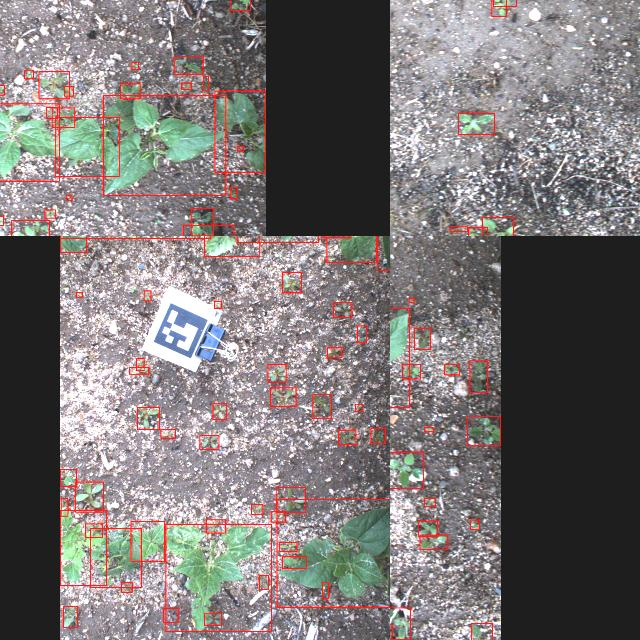crop: (276, 499, 390, 607), (102, 95, 225, 195), (165, 524, 271, 630), (0, 103, 58, 180), (214, 90, 266, 172), (55, 116, 119, 176), (59, 509, 105, 585), (90, 528, 140, 586), (390, 307, 409, 407), (130, 520, 164, 560), (326, 236, 376, 261), (203, 236, 259, 255), (377, 236, 390, 269), (60, 236, 86, 251)
weed: (390, 452, 423, 488), (468, 416, 500, 444), (38, 70, 68, 98), (74, 481, 102, 511), (458, 112, 494, 134), (275, 486, 305, 512), (11, 219, 49, 236), (481, 216, 513, 236), (191, 207, 213, 235), (182, 224, 233, 236), (390, 607, 409, 639), (469, 360, 487, 392), (270, 386, 296, 406), (174, 55, 202, 73), (137, 407, 159, 429), (313, 394, 332, 418), (52, 107, 74, 127), (419, 534, 447, 548), (471, 622, 492, 640), (282, 272, 300, 292), (267, 364, 285, 382), (418, 520, 438, 536), (414, 328, 430, 348), (59, 468, 75, 486), (282, 556, 306, 568), (120, 84, 140, 98), (62, 606, 76, 626), (333, 302, 351, 316), (338, 430, 356, 444), (200, 434, 218, 448), (402, 364, 420, 378), (490, 0, 505, 16), (205, 520, 225, 532), (85, 523, 102, 537), (370, 428, 386, 442), (212, 403, 226, 419), (162, 608, 178, 622), (203, 612, 220, 624), (230, 0, 250, 9), (467, 227, 486, 236), (326, 347, 342, 357), (128, 366, 148, 374), (280, 541, 296, 551), (270, 511, 286, 521), (356, 326, 366, 342), (45, 106, 57, 118), (258, 575, 268, 589), (160, 428, 174, 438), (444, 364, 458, 374), (120, 582, 132, 592), (251, 504, 263, 514), (60, 498, 66, 516), (44, 209, 56, 217), (322, 582, 328, 598), (135, 358, 143, 370), (424, 497, 436, 505), (230, 188, 238, 198), (64, 86, 72, 96), (23, 70, 32, 78), (449, 226, 467, 230), (469, 520, 478, 528), (181, 82, 191, 88), (144, 290, 150, 300), (424, 426, 434, 432), (204, 76, 208, 90), (213, 300, 220, 308), (356, 404, 362, 411), (132, 62, 138, 68), (65, 194, 71, 200), (0, 215, 3, 224), (237, 146, 243, 150), (75, 292, 81, 296), (408, 298, 414, 302)
